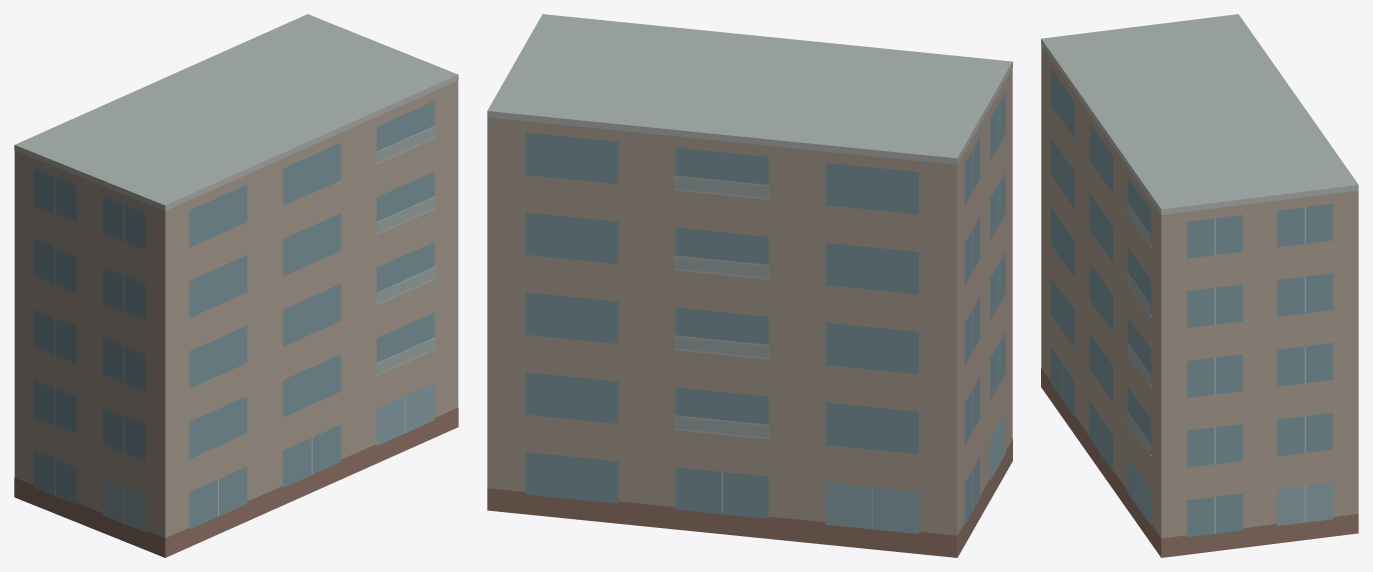
Rendered from survey-upis-32620548.glb.
3 views of the same model, side by side, from view 1: azimuth 30°, elevation 25°; view 2: azimuth 150°, elevation 25°; view 3: azimuth 270°, elevation 25° (orthographic). The views are drawn at different scales.
Visible parts, largest first — view 1: survey-upis-32620548.tmp; view 2: survey-upis-32620548.tmp; view 3: survey-upis-32620548.tmp.
Part boxes in pixels (x1,y1,x2,y2): survey-upis-32620548.tmp: [14, 14, 458, 557]; survey-upis-32620548.tmp: [487, 14, 1012, 557]; survey-upis-32620548.tmp: [1041, 14, 1358, 557].
Bounding box in the file's own units: 18.35 × 15.25 × 12.61.
